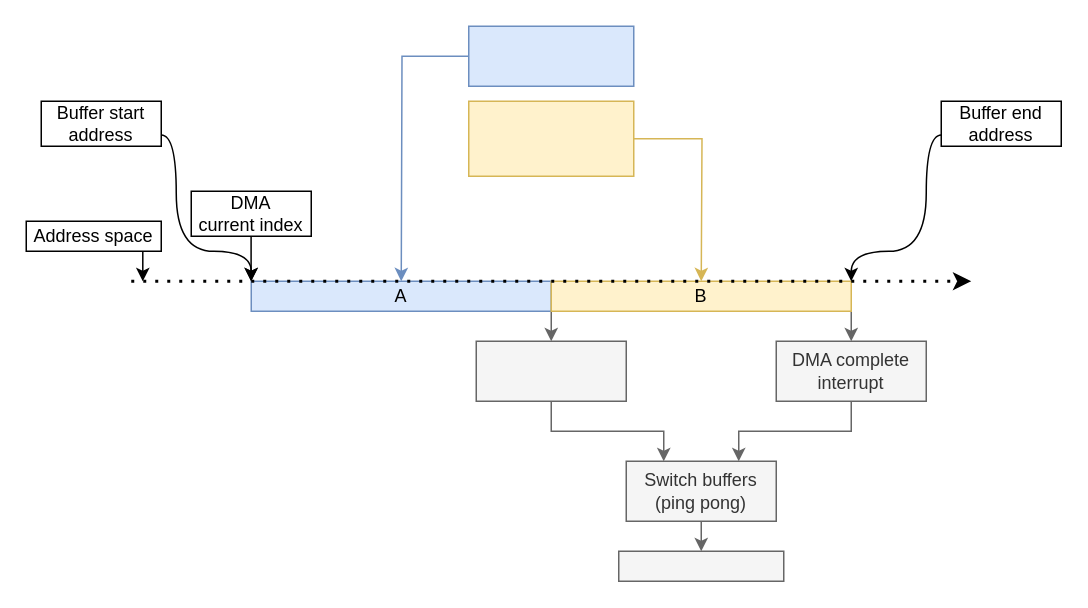
Some shapes in this 1088 by 608 pixel diagram are drawn without their labels. The shapes that lost their labels are listed below. From the top down, each one's centre as x and y in pixels, then its label:
At pixel 550 55: "Current active DMA buffer (ping)".
At pixel 550 138: "Current active Audio processing buffer (pong)".
At pixel 550 370: "DMA half complete interrupt".
At pixel 700 565: "Set data ready flag".
